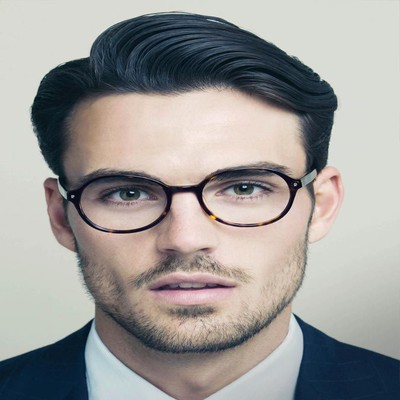eywear: (49, 151, 330, 250)
